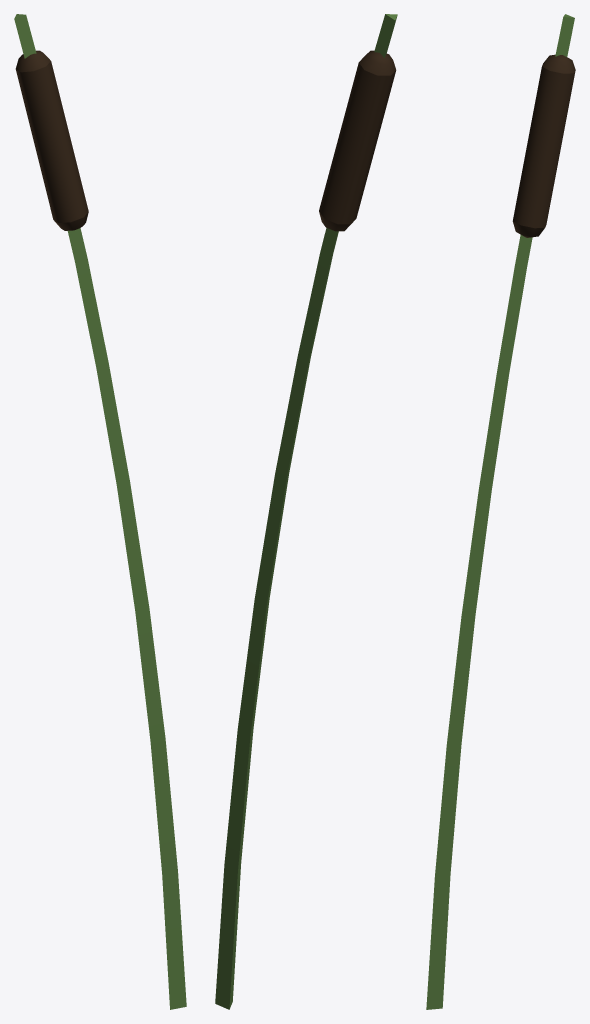
Rendered from plant_cattail_solo_E_twig.fbx.
3 views of the same model, side by side, from view 1: azimuth 30°, elevation 25°; view 2: azimuth 210°, elevation 25°; view 3: azimuth 270°, elevation 25° (orthographic). The views are drawn at different scales.
Visible parts, largest first — view 1: plant_cattail_solo_E_twig, plant_cattail_solo_E_leaf; view 2: plant_cattail_solo_E_twig, plant_cattail_solo_E_leaf; view 3: plant_cattail_solo_E_twig, plant_cattail_solo_E_leaf.
Part boxes in pixels (x1,y1,x2,y2): plant_cattail_solo_E_twig: (14,14,186,1009); plant_cattail_solo_E_leaf: (15,50,88,230); plant_cattail_solo_E_twig: (215,14,397,1009); plant_cattail_solo_E_leaf: (319,50,396,231); plant_cattail_solo_E_twig: (426,14,574,1009); plant_cattail_solo_E_leaf: (512,54,575,237).
Bounding box in the file's own units: 16.34 × 148 × 21.03.
